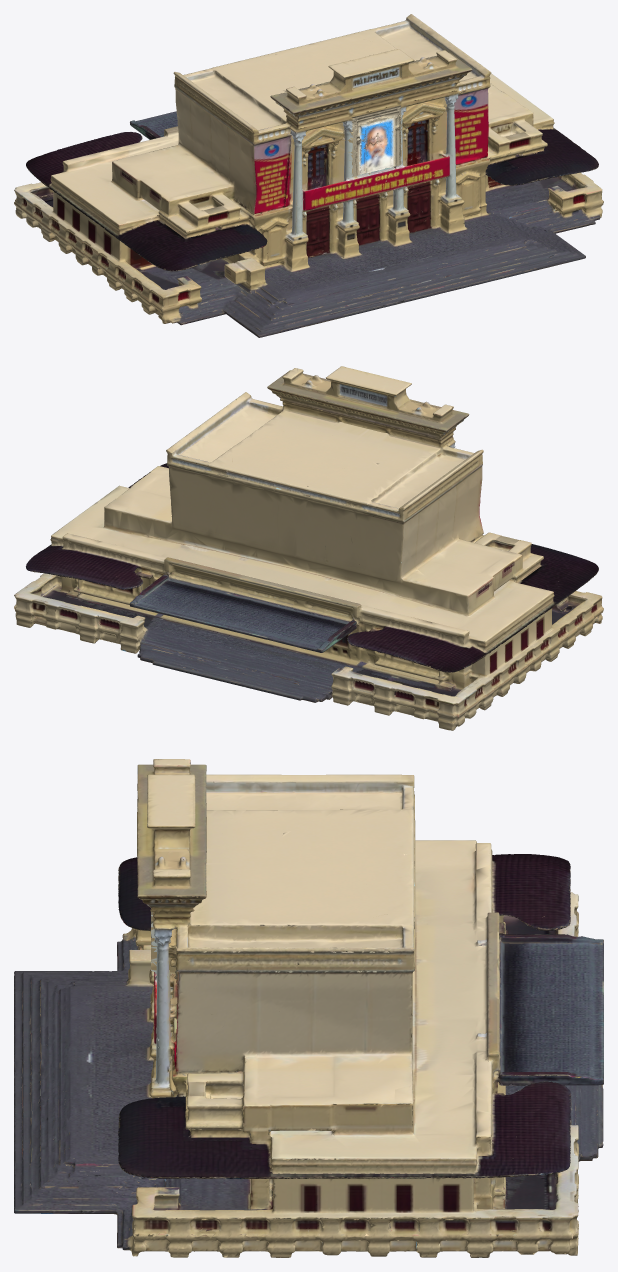
The model's file is nhahat.glb.
3 views of the same model, one above another, from view 1: azimuth 30°, elevation 25°; view 2: azimuth 150°, elevation 25°; view 3: azimuth 270°, elevation 25° (orthographic). The views are drawn at different scales.
Visible parts, largest first — view 1: Mesh_0; view 2: Mesh_0; view 3: Mesh_0.
Part boxes in pixels (left/top/right/bottom): Mesh_0: left=14, top=14, right=603, bottom=337; Mesh_0: left=14, top=366, right=603, bottom=730; Mesh_0: left=14, top=759, right=603, bottom=1257.
Size of the model in its own units: 1.91 by 0.8148 by 1.46.
Materials: 1 (1 with a texture image).
